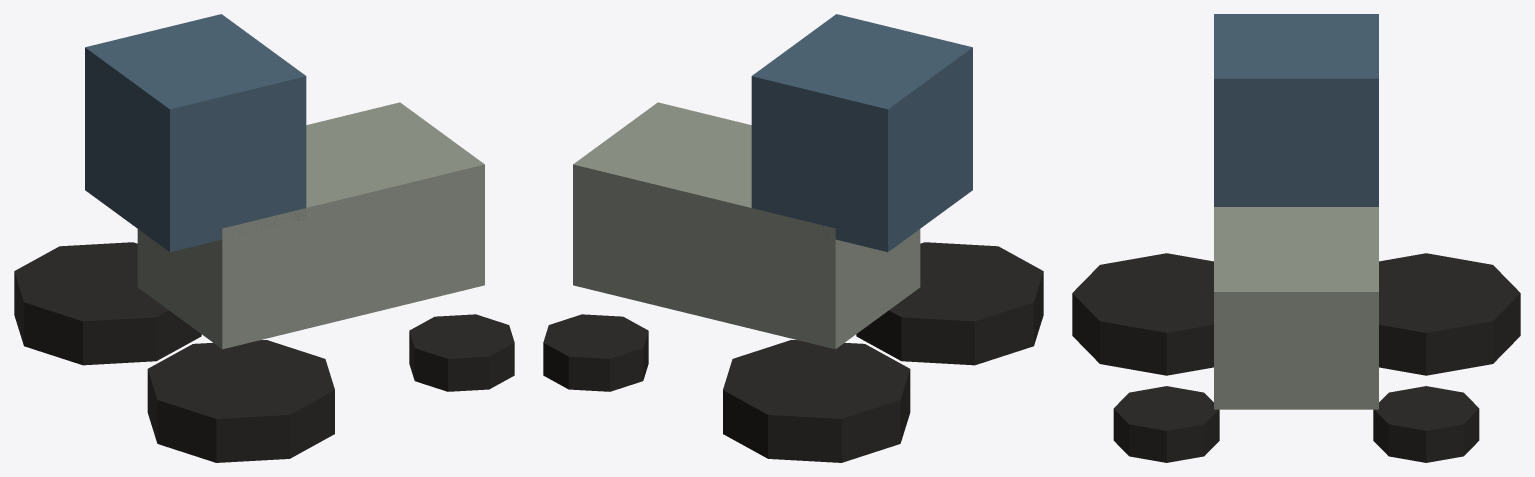
The model's file is tractor.glb.
The picture shows the model from 3 angles, left to right: view 1: azimuth 30°, elevation 25°; view 2: azimuth 150°, elevation 25°; view 3: azimuth 270°, elevation 25°; orthographic projection. The views are drawn at different scales.
Parts seen in each view (by area): view 1: tractor_mesh; view 2: tractor_mesh; view 3: tractor_mesh.
Part boxes in pixels (<box>): tractor_mesh: <box>14,14,514,462</box>; tractor_mesh: <box>543,14,1043,462</box>; tractor_mesh: <box>1072,14,1520,462</box>.
Size of the model in its own units: 0.067 by 0.056 by 0.076.
